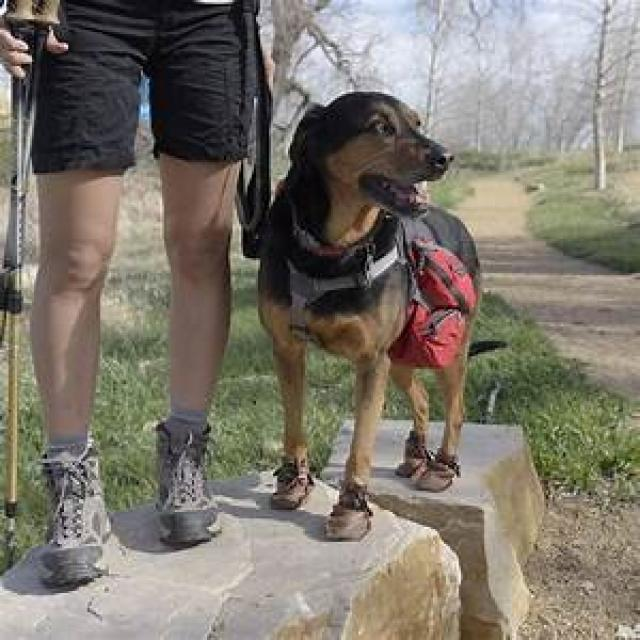dog: (259, 91, 479, 540)
